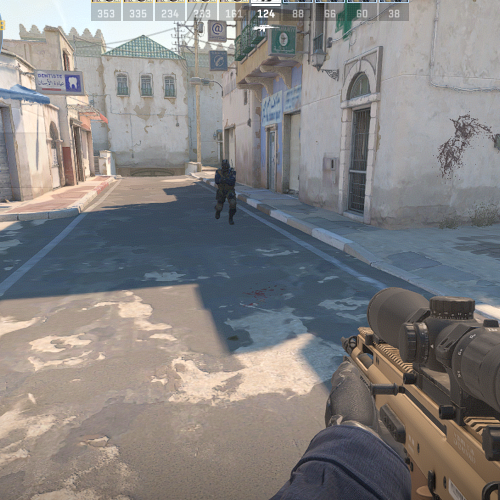ct_body: (215, 159, 238, 226)
ct_head: (220, 158, 231, 172)
